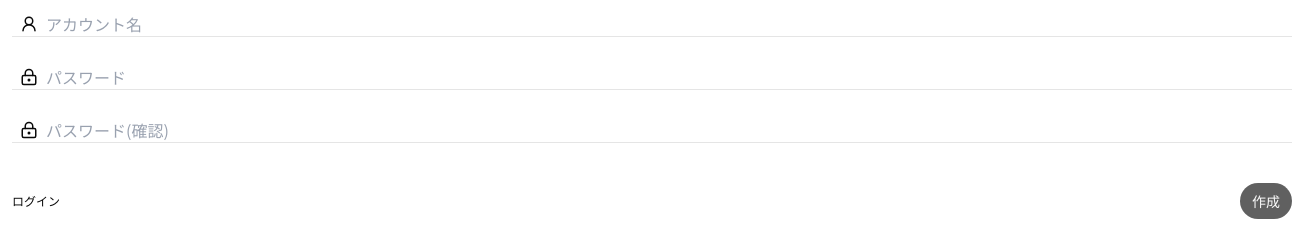
Test: Auth/Organisms/SignupForm › shows error when passwords do not match
Type "holos" into the field with placeholder "アカウント名".
click(665, 24); type("holos")  # box [46,12,1284,36]
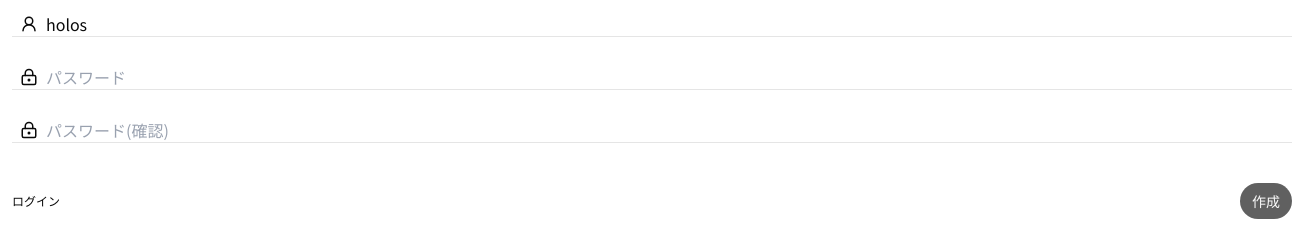
Type "password1" into the password field with placeholder "パスワード".
click(665, 77); type("password1")  # box [46,65,1284,89]
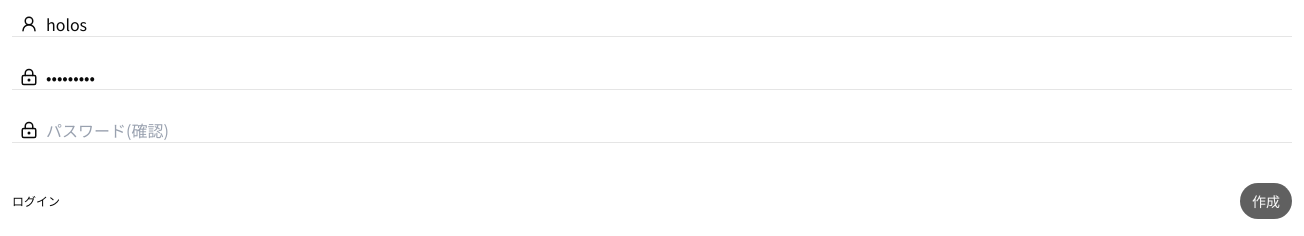
Type "password2" into the password field with placeholder "パスワード(確認)".
click(665, 130); type("password2")  # box [46,118,1284,142]
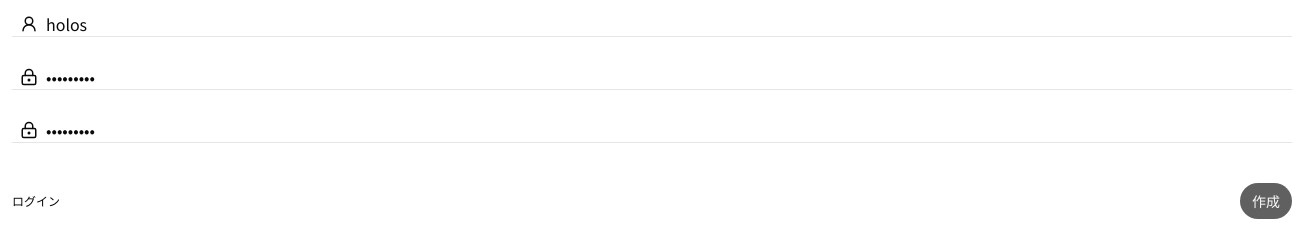
Click the button.
click(1266, 201)  # box [1240,183,1292,219]
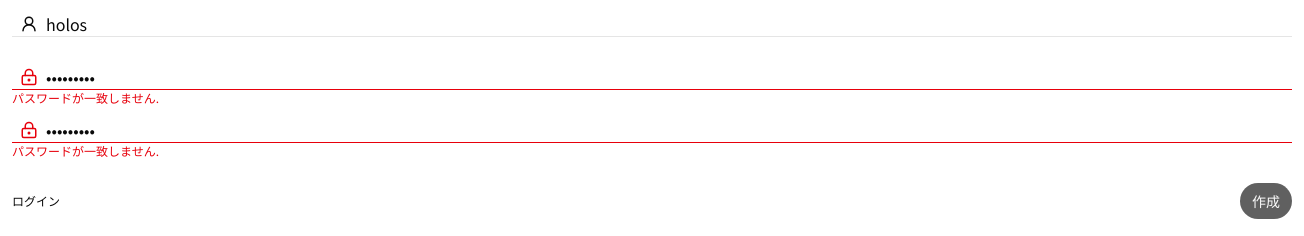
Check: the text "パスワードが一致しません." is shown 2 times, box [12,89,159,106]; [12,142,159,159]
